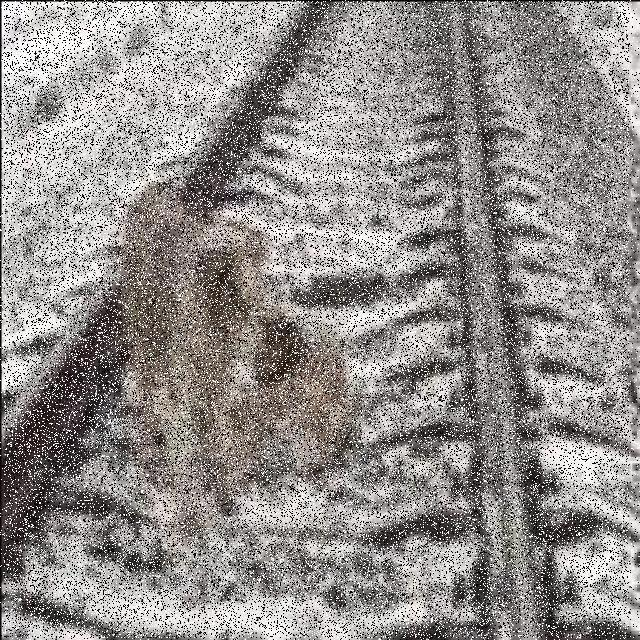danger: (89, 169, 362, 545)
rail: (4, 1, 629, 638)
